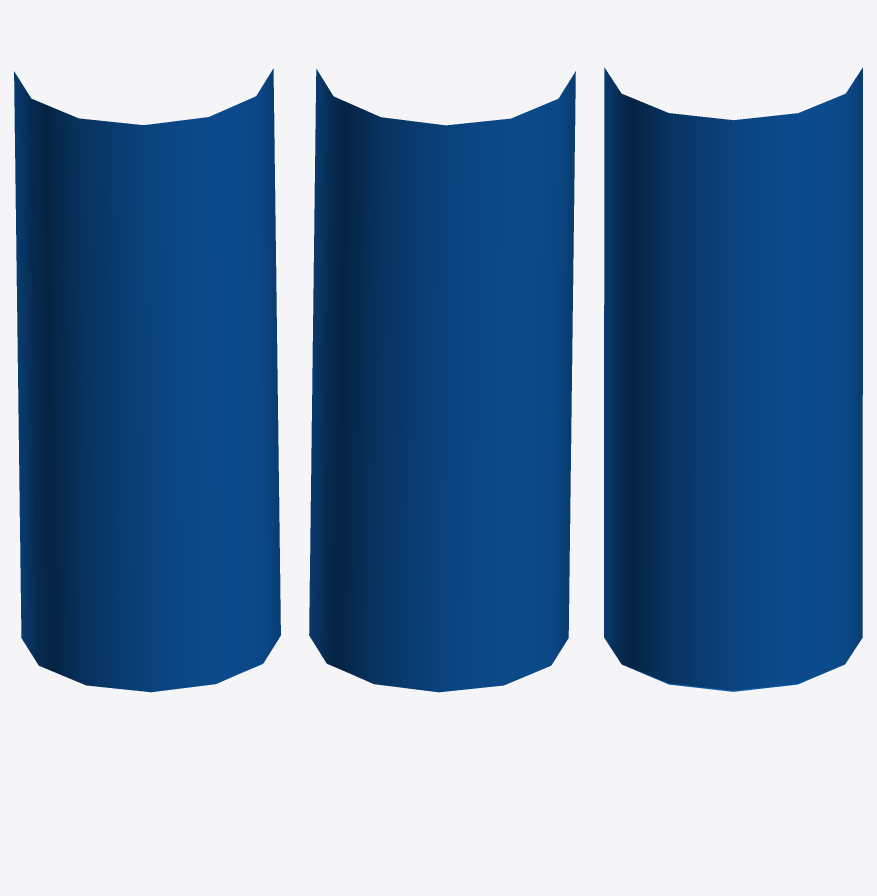
File: 1e717fab-8490-410e-9740-cebd1026f5d6.glb
The picture shows the model from 3 angles, left to right: view 1: azimuth 30°, elevation 25°; view 2: azimuth 150°, elevation 25°; view 3: azimuth 270°, elevation 25°; orthographic projection.
Parts seen in each view (by area): view 1: 1348; view 2: 1348; view 3: 1348.
Part boxes in pixels (x1,y1,x2,y2): 1348: [14, 68, 280, 692]; 1348: [309, 69, 575, 692]; 1348: [604, 67, 862, 690].
Bounding box in the file's own units: 0.291 × 0.9121 × 0.2822.
